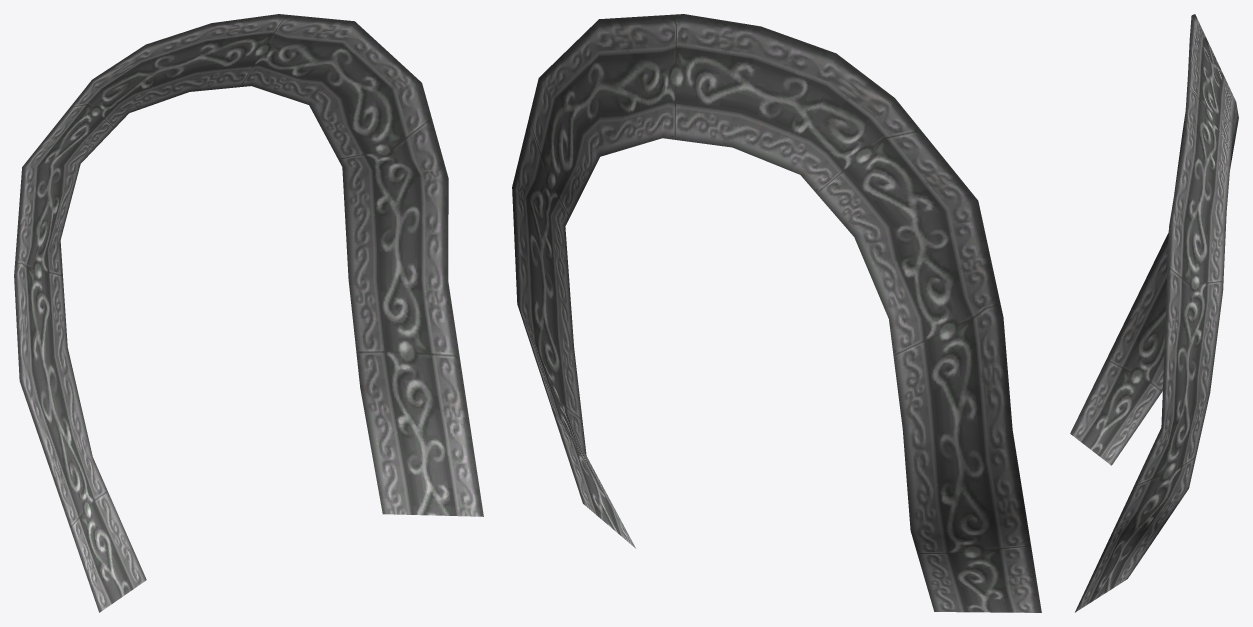
Rendered from EKH_JAIL_PS_JA_DOOR_TRIM39387.fbx.
3 renders of one model, left to right at view 1: azimuth 30°, elevation 25°; view 2: azimuth 150°, elevation 25°; view 3: azimuth 270°, elevation 25°, orthographic. The views are drawn at different scales.
Visible parts, largest first — view 1: EKH_JAIL_PS_JA_DOOR_TRIM39387; view 2: EKH_JAIL_PS_JA_DOOR_TRIM39387; view 3: EKH_JAIL_PS_JA_DOOR_TRIM39387.
Boxes of the visible parts, x1,y1,x2,y2 form: EKH_JAIL_PS_JA_DOOR_TRIM39387: [14, 14, 483, 612]; EKH_JAIL_PS_JA_DOOR_TRIM39387: [512, 14, 1041, 612]; EKH_JAIL_PS_JA_DOOR_TRIM39387: [1070, 14, 1238, 612].
Size of the model in its own units: 15570 by 17462 by 5619.
1 material, 1 textured.
